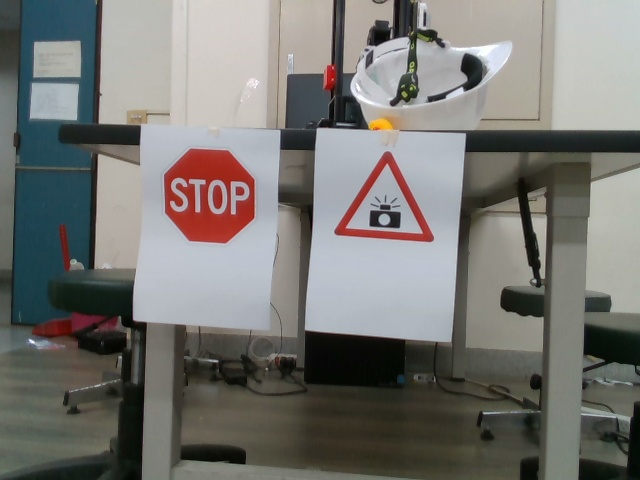camera: (333, 148, 436, 245)
helmet: (350, 25, 516, 138)
stop: (160, 144, 260, 247)
